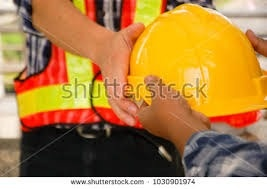helmet: (126, 3, 266, 128)
safety vest: (19, 1, 164, 127)
